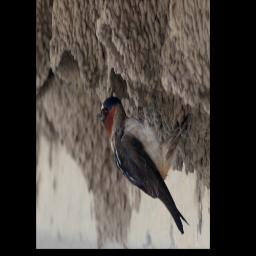Swallow: (95, 95, 192, 236)
